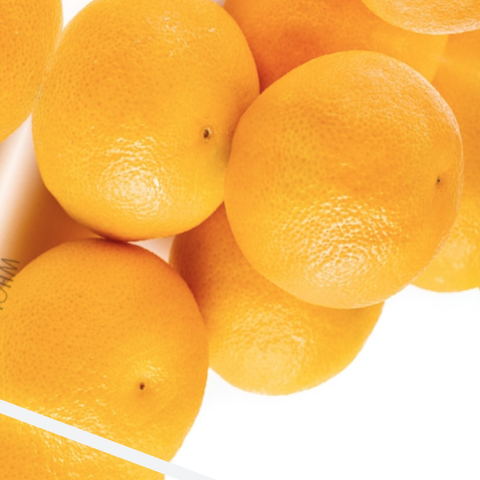orange: (181, 6, 480, 357), (0, 0, 302, 312), (0, 199, 283, 480)
